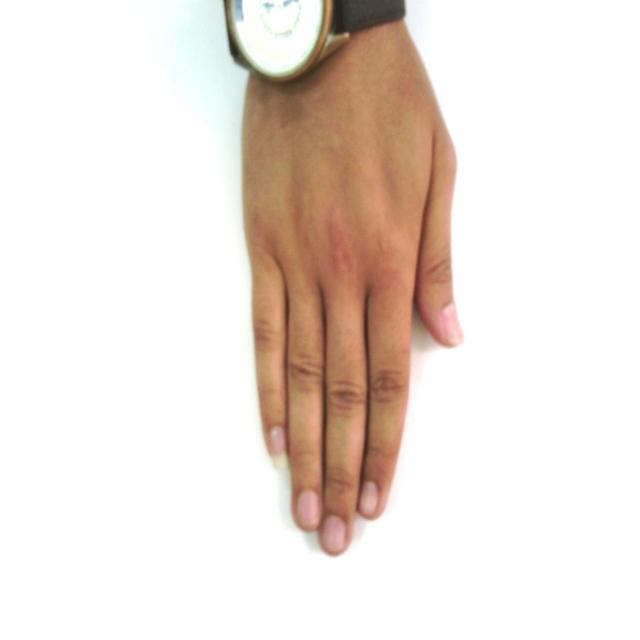Fingernail: (321, 517, 346, 553), (297, 490, 318, 528), (442, 304, 463, 342), (269, 428, 286, 468), (359, 482, 378, 516)
